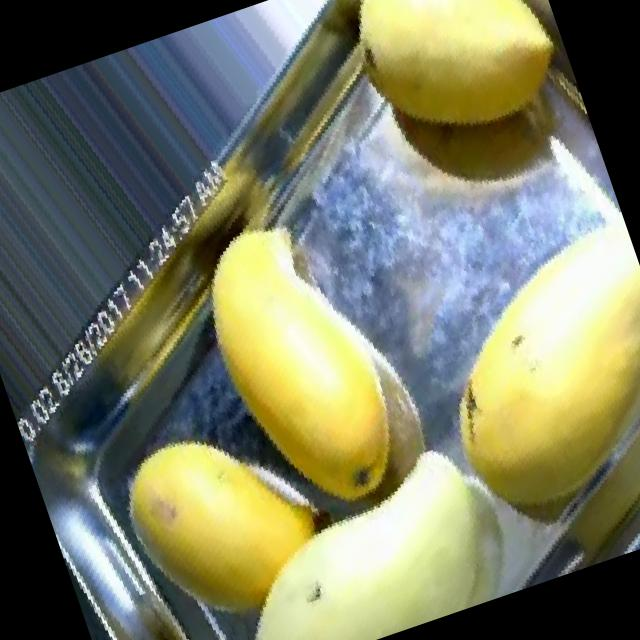fruit: (120, 155, 485, 573), (351, 192, 640, 599), (53, 362, 373, 640), (155, 430, 566, 640), (308, 0, 596, 213)
